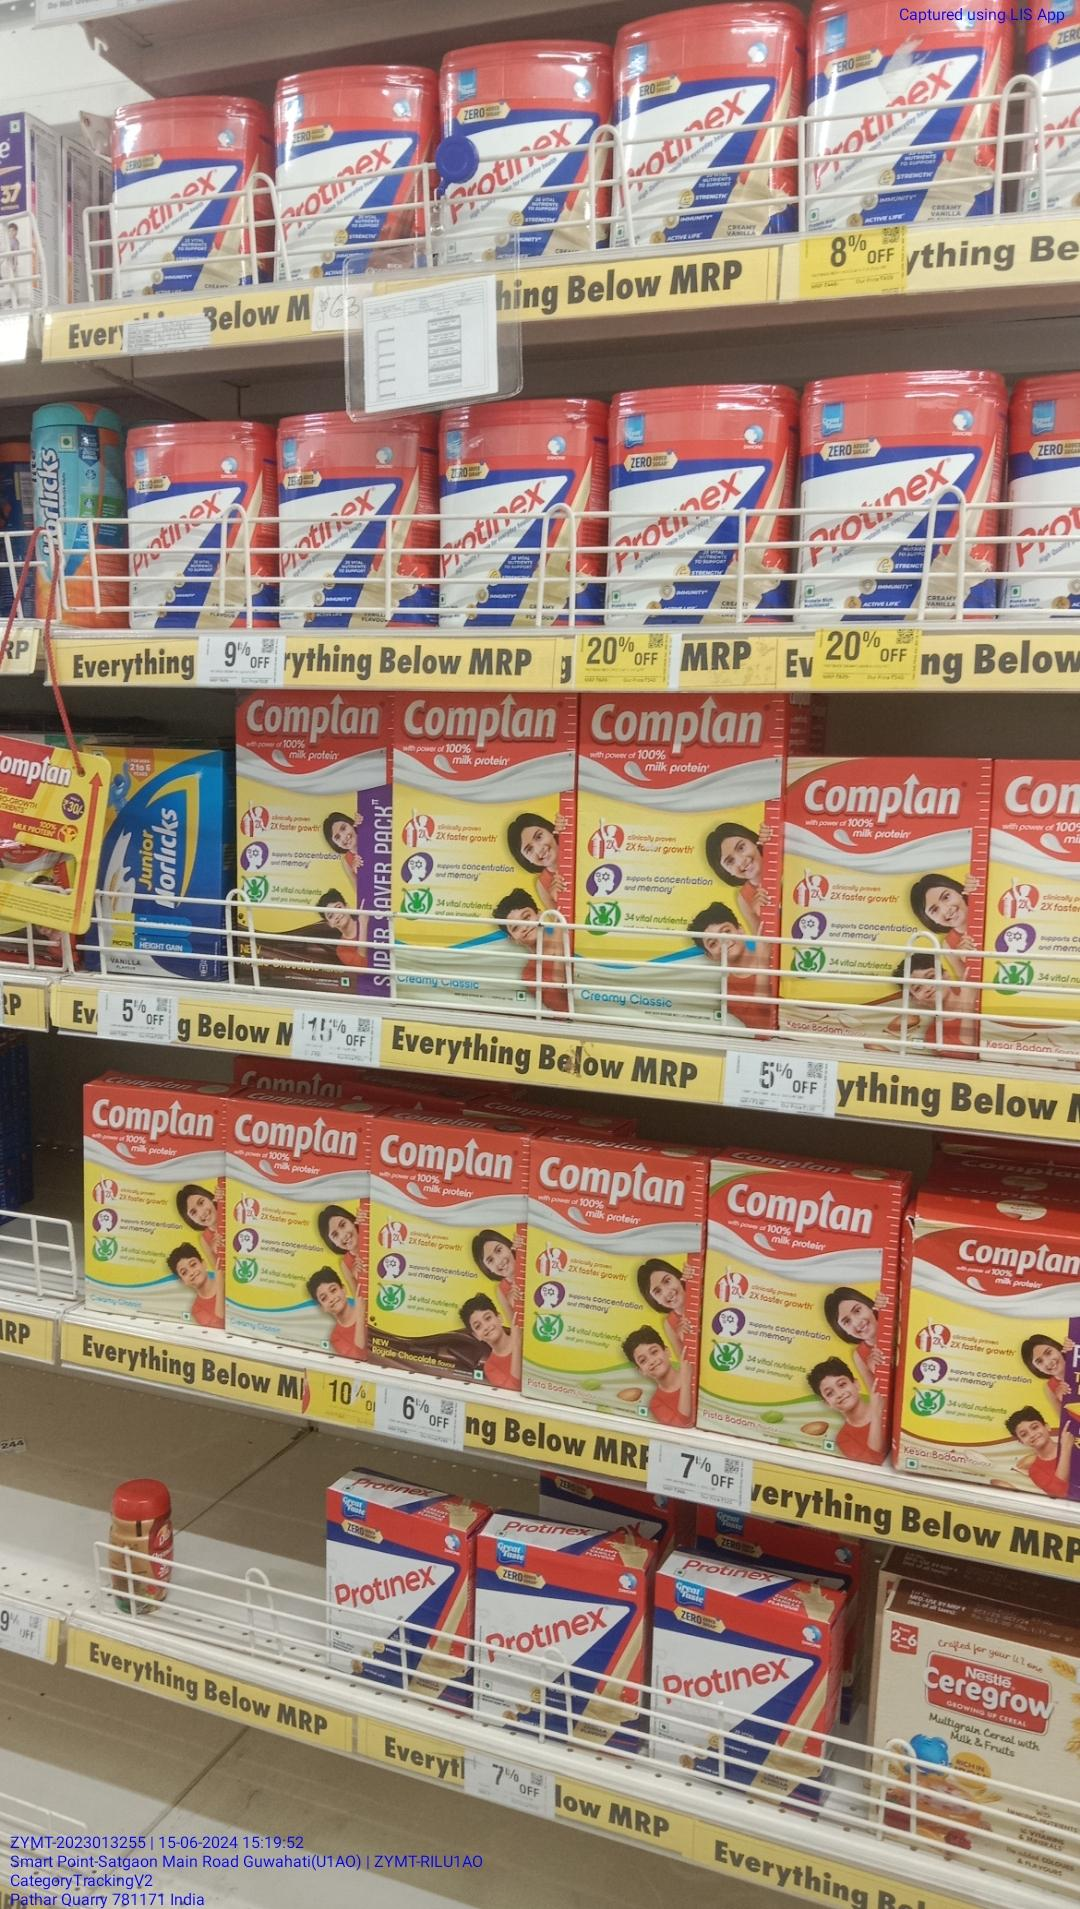COMPLAN_CHOCOLATE_1_KG_PACK: (237, 692, 391, 995)
COMPLAN_CHOCOLATE_500_GMS_PACK: (367, 1129, 522, 1390)
COMPLAN_CREAMY_CLASSIC_500_G_PACK: (225, 1101, 367, 1357), (83, 1096, 223, 1324)
COMPLAN_KESAR_BADAM_500_GMS_PACK: (784, 757, 976, 1066), (902, 1223, 1080, 1499)
COMPLAN_PISTA_BADAM_500_GMS_PACK: (699, 1168, 898, 1458), (527, 1137, 695, 1427)
